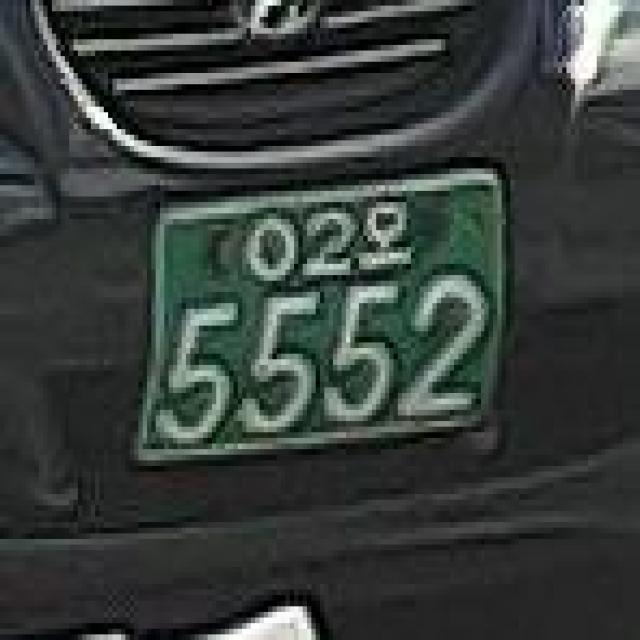illegal_plate: (134, 154, 520, 487)
